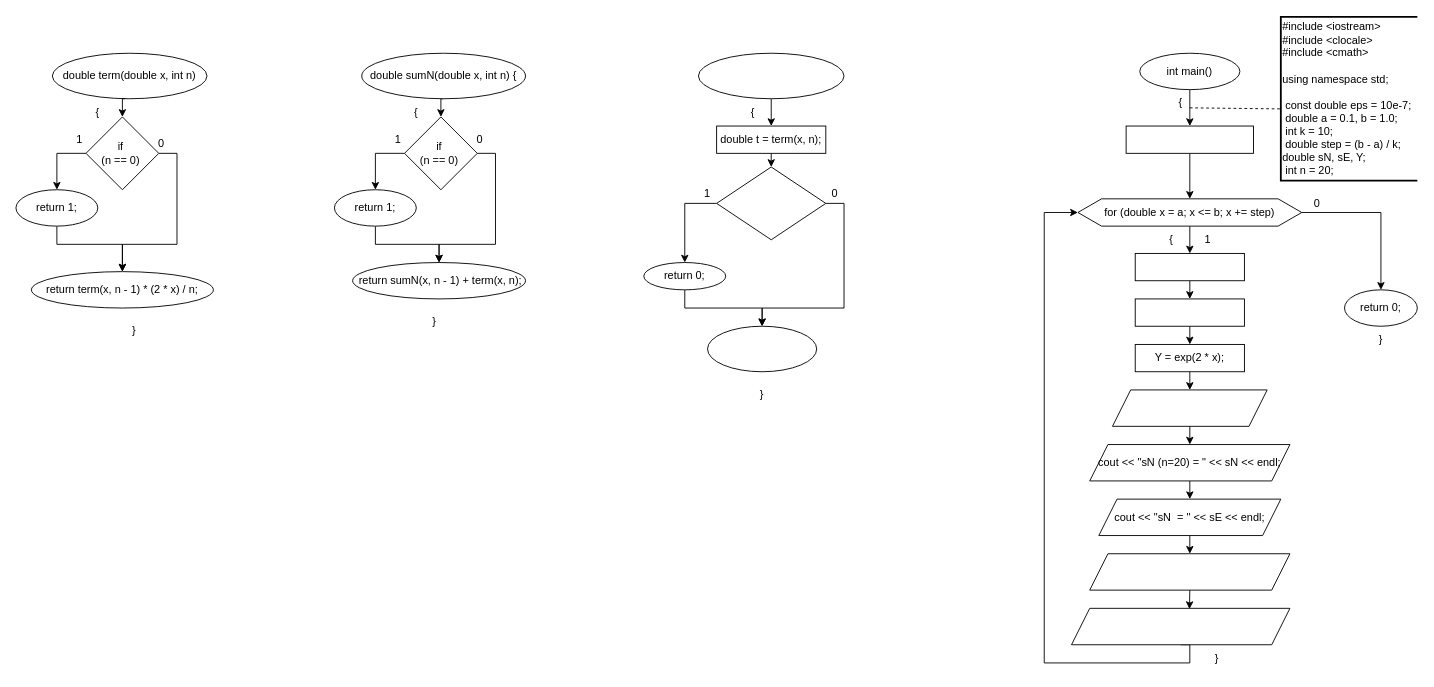
Image size: 1434x687. Some labels were removed from this diagram. The centre of each missing label's shape, as x and y in pixels:
cout << "-------------------------" << endl;: (x=1180, y=626)
cout << "Funcion Y = " << Y << endl;: (x=1189, y=571)
cout << "x = " << x << endl;: (x=1189, y=407)
double sumEps(double x, double eps, int n = 0): (x=771, y=75)
if (fabs(t) < eps): (x=771, y=203)
return t + sumEps(x, eps, n + 1);: (x=762, y=348)
sE = sumEps(x, eps);: (x=1189, y=312)
setlocale(LC_ALL, "RU");: (x=1189, y=139)
sN = sumN(x, n);: (x=1189, y=267)
